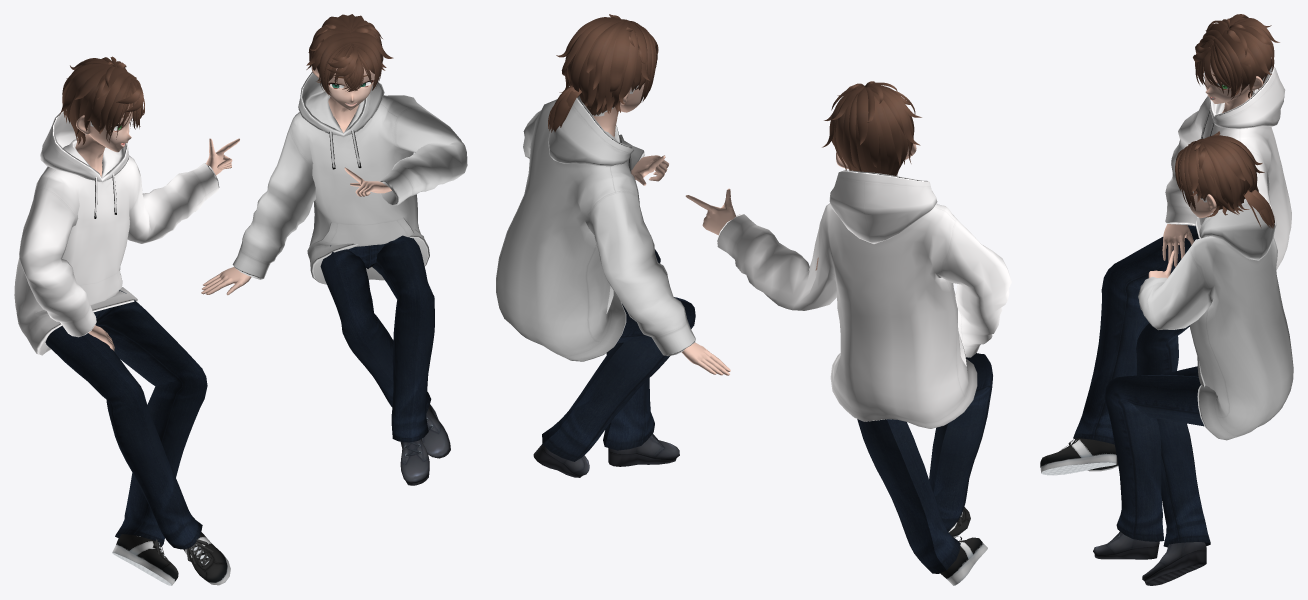
File: 011_めんだこ.glb
The picture shows the model from 3 angles, left to right: view 1: azimuth 30°, elevation 25°; view 2: azimuth 150°, elevation 25°; view 3: azimuth 270°, elevation 25°; orthographic projection. The views are drawn at different scales.
Parts seen in each view (by area): view 1: めんだこ式アントーニョ AR_mesh, めんだこ式ポルトガル AR_mesh; view 2: めんだこ式アントーニョ AR_mesh, めんだこ式ポルトガル AR_mesh; view 3: めんだこ式ポルトガル AR_mesh, めんだこ式アントーニョ AR_mesh.
Boxes of the visible parts, <box> form: めんだこ式アントーニョ AR_mesh: <box>14,56,239,585</box>; めんだこ式ポルトガル AR_mesh: <box>201,14,467,485</box>; めんだこ式アントーニョ AR_mesh: <box>685,81,1011,585</box>; めんだこ式ポルトガル AR_mesh: <box>496,14,730,477</box>; めんだこ式ポルトガル AR_mesh: <box>1093,131,1293,585</box>; めんだこ式アントーニョ AR_mesh: <box>1040,14,1291,475</box>.
Size of the model in its own units: 2.87 by 3.02 by 1.52.
Materials: 28 (28 with a texture image).
